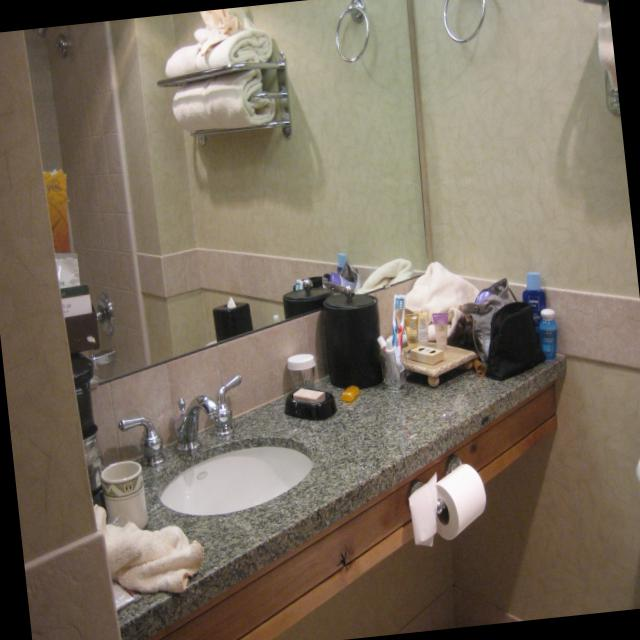counter bottom: (88, 332, 566, 640)
cup and saucer: (101, 461, 149, 531)
faucet handle: (173, 394, 225, 447)
glass ceiling: (379, 345, 407, 392)
mirror crop: (24, 0, 429, 393)
sink basin: (159, 435, 314, 514)
soap bottle: (293, 388, 325, 406), (341, 384, 360, 401)
toilet paper: (423, 464, 487, 539)
wall clock: (412, 0, 640, 626), (0, 31, 123, 640)
